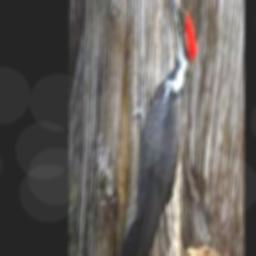Woodpecker: (113, 0, 199, 256)
